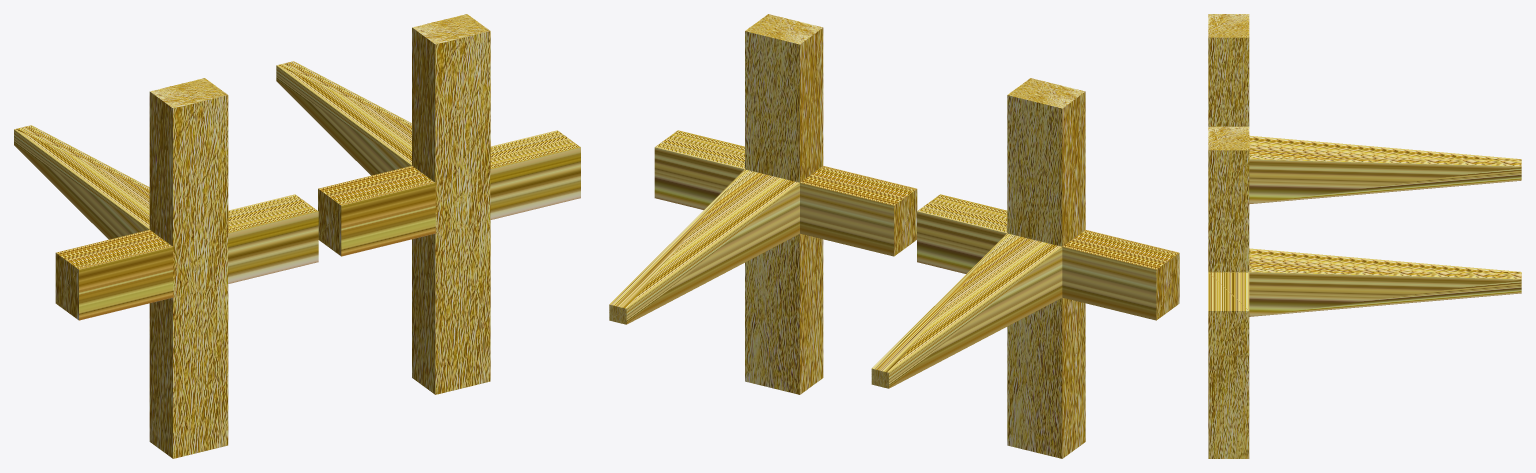
The model's file is pendientes2.glb.
3 views of the same model, side by side, from view 1: azimuth 30°, elevation 25°; view 2: azimuth 150°, elevation 25°; view 3: azimuth 270°, elevation 25° (orthographic). The views are drawn at different scales.
Parts seen in each view (by area): view 1: Cube.001, Cube; view 2: Cube, Cube.001; view 3: Cube, Cube.001.
Part boxes in pixels (x1=…): Cube.001: x1=14, y1=78, x2=318, y2=458; Cube: x1=276, y1=14, x2=580, y2=394; Cube: x1=609, y1=14, x2=917, y2=394; Cube.001: x1=871, y1=78, x2=1179, y2=458; Cube: x1=1208, y1=126, x2=1521, y2=458; Cube.001: x1=1208, y1=14, x2=1521, y2=204.
Bounding box in the file's own units: 2.24 × 1.5 × 1.38.
Materials: 1 (1 with a texture image).
